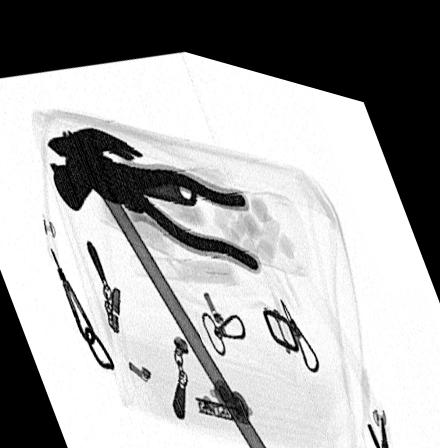Hammer: (54, 125, 275, 448)
Pliers: (72, 155, 259, 258)
Wrench: (45, 134, 195, 209)
